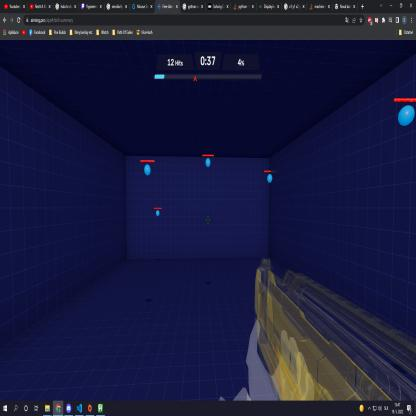sphere: (398, 105, 416, 126), (144, 164, 152, 177), (205, 157, 211, 168), (267, 173, 273, 184), (156, 209, 160, 217)
